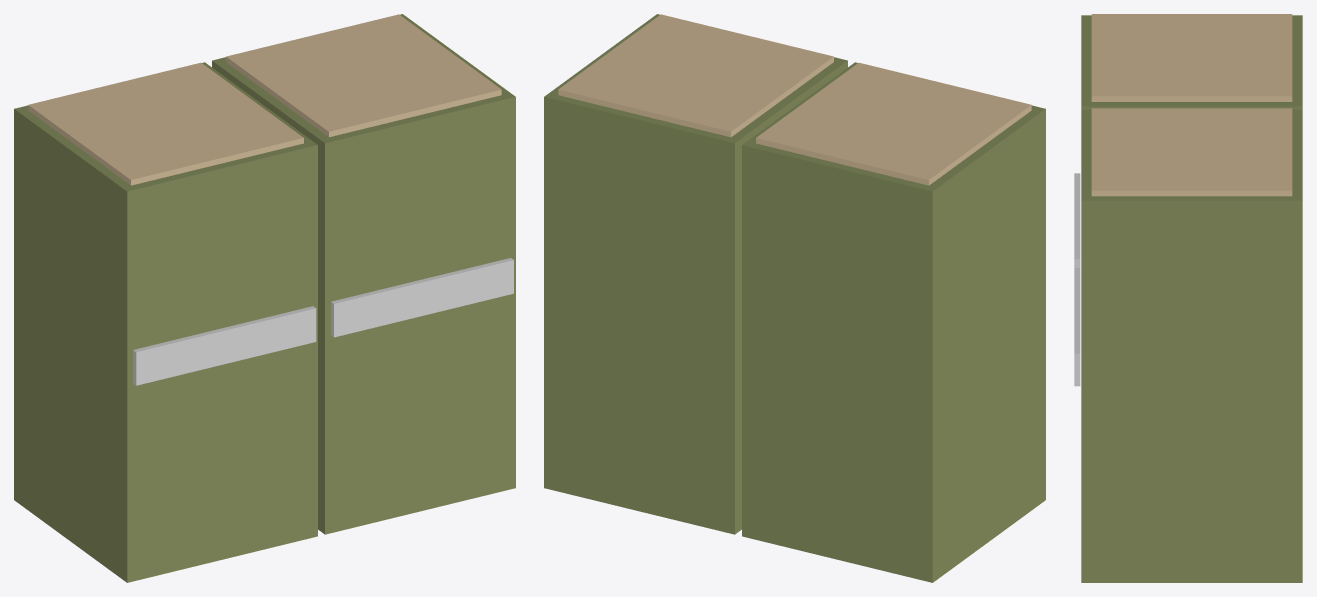
The model's file is SM_HescoCorto2_v0_MallaLimpia_e0_Sano_LOD1.fbx.
The picture shows the model from 3 angles, left to right: view 1: azimuth 30°, elevation 25°; view 2: azimuth 150°, elevation 25°; view 3: azimuth 270°, elevation 25°; orthographic projection. The views are drawn at different scales.
Parts seen in each view (by area): view 1: SM_hesco_piezas_v60_LOD1; view 2: SM_hesco_piezas_v60_LOD1; view 3: SM_hesco_piezas_v60_LOD1.
Boxes of the visible parts, bbox=[...] form: SM_hesco_piezas_v60_LOD1: bbox=[14, 14, 515, 582]; SM_hesco_piezas_v60_LOD1: bbox=[544, 14, 1045, 582]; SM_hesco_piezas_v60_LOD1: bbox=[1074, 14, 1302, 582].
Size of the model in its own units: 2.18 by 2.13 by 1.13.
